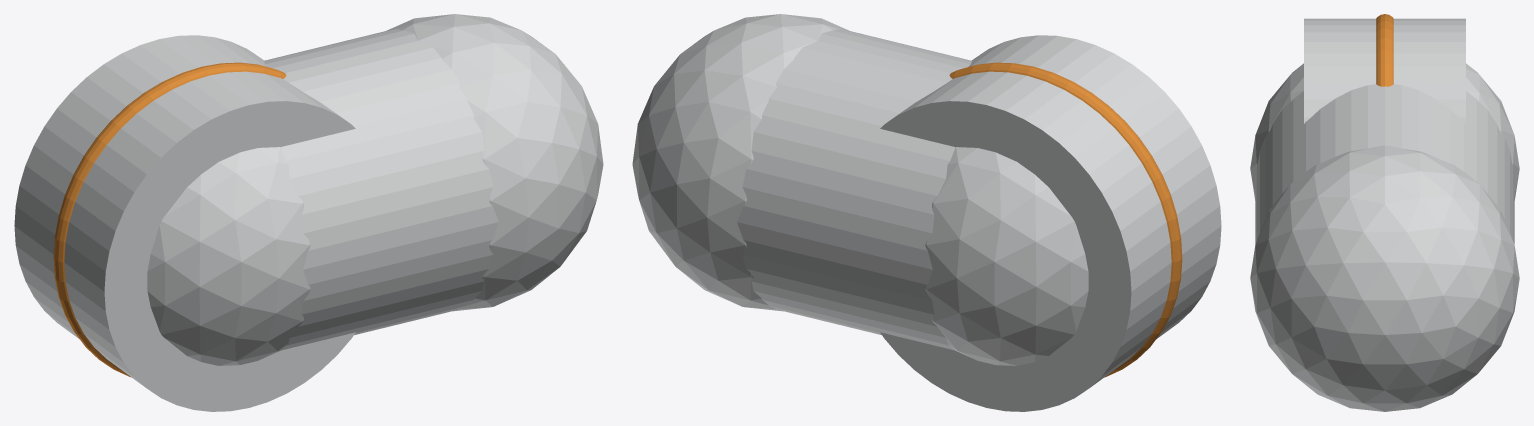
3 renders of one model, left to right at view 1: azimuth 30°, elevation 25°; view 2: azimuth 150°, elevation 25°; view 3: azimuth 270°, elevation 25°, orthographic. The views are drawn at different scales.
Visible parts, largest first — view 1: link1_body.stl, link1_ring.stl; view 2: link1_body.stl, link1_ring.stl; view 3: link1_body.stl, link1_ring.stl.
Boxes of the visible parts, x1=… form: link1_body.stl: x1=14, y1=14, x2=603, y2=411; link1_ring.stl: x1=53, y1=62, x2=286, y2=377; link1_body.stl: x1=632, y1=14, x2=1221, y2=411; link1_ring.stl: x1=949, y1=62, x2=1182, y2=377; link1_body.stl: x1=1250, y1=18, x2=1519, y2=411; link1_ring.stl: x1=1376, y1=14, x2=1393, y2=86.
Bounding box in the file's own units: 0.3812 × 0.2151 × 0.1872.
